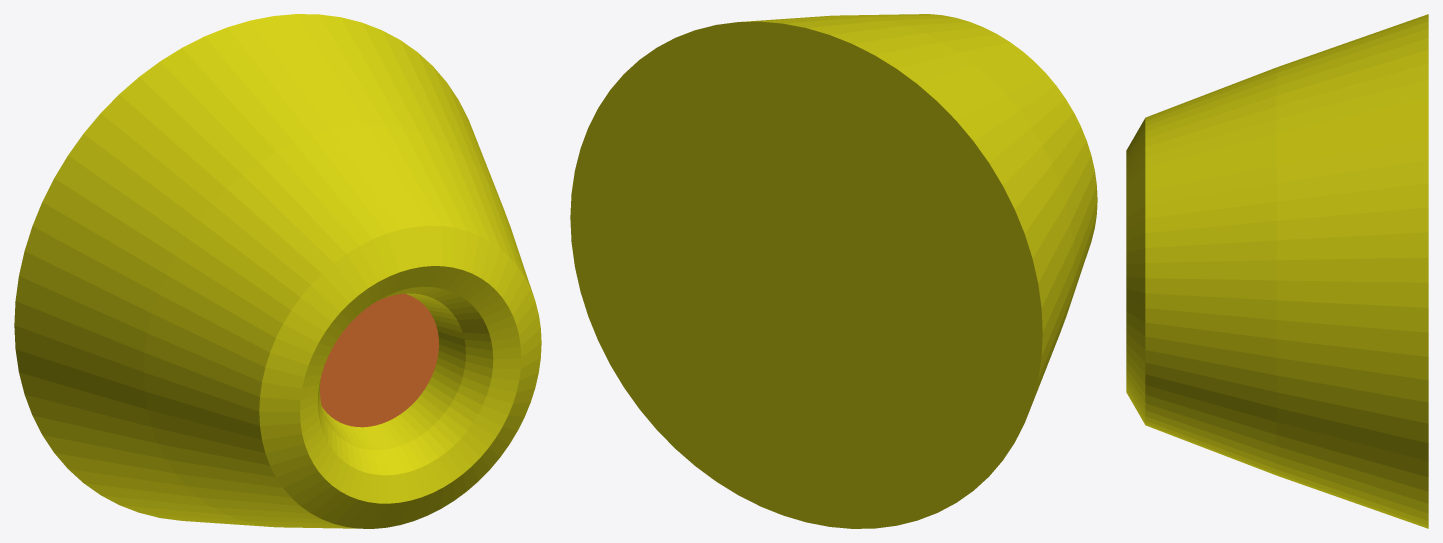
The model's file is lanzador.fbx.
3 views of the same model, side by side, from view 1: azimuth 30°, elevation 25°; view 2: azimuth 150°, elevation 25°; view 3: azimuth 270°, elevation 25° (orthographic). The views are drawn at different scales.
Parts seen in each view (by area): view 1: Cylinder; view 2: Cylinder; view 3: Cylinder.
Part boxes in pixels (x1,y1,x2,y2): Cylinder: [14, 14, 541, 528]; Cylinder: [570, 14, 1097, 528]; Cylinder: [1126, 14, 1428, 528].
Size of the model in its own units: 339 by 339 by 199.
